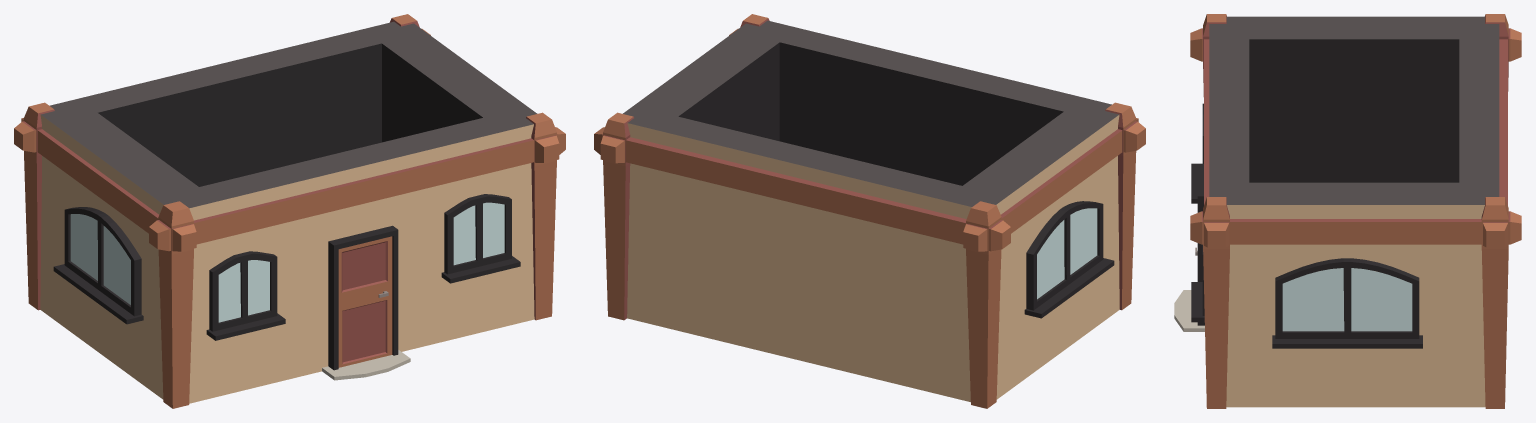
Rendered from Testhouse_Foundation.fbx.
3 renders of one model, left to right at view 1: azimuth 30°, elevation 25°; view 2: azimuth 150°, elevation 25°; view 3: azimuth 270°, elevation 25°, orthographic. The views are drawn at different scales.
Parts seen in each view (by area): view 1: Foundation_Primitive.001; view 2: Foundation_Primitive.001; view 3: Foundation_Primitive.001.
Part boxes in pixels (x1,y1,x2,y2): Foundation_Primitive.001: (14,14,565,408); Foundation_Primitive.001: (594,14,1145,408); Foundation_Primitive.001: (1174,14,1521,408).
Size of the model in its own units: 219 by 156 by 101.
